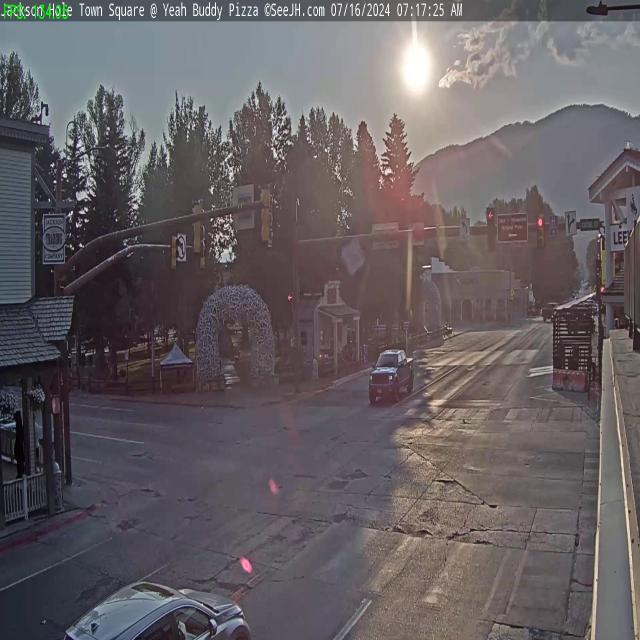pickup: (368, 344, 414, 406)
suv: (46, 574, 256, 640)
traffic light: (190, 198, 204, 255), (260, 184, 273, 245), (486, 208, 497, 252), (170, 233, 179, 272), (536, 215, 545, 247)
